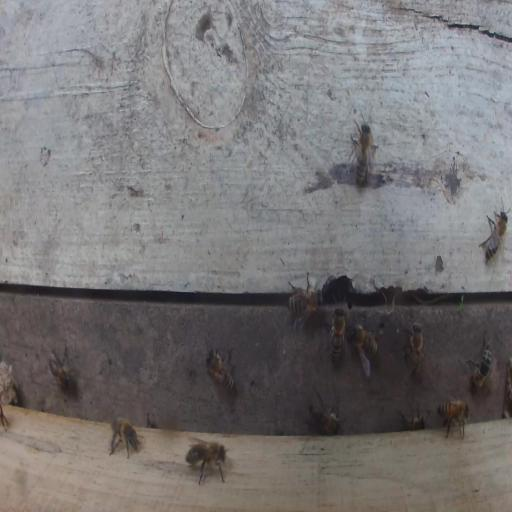nonpollenbee: (184, 435, 227, 487), (349, 313, 379, 379), (463, 329, 492, 396), (308, 386, 342, 438), (437, 394, 471, 441), (109, 416, 145, 460), (351, 118, 373, 190), (204, 347, 236, 396), (400, 321, 427, 378), (482, 208, 509, 262), (288, 285, 322, 322), (47, 345, 73, 389), (328, 305, 346, 367), (397, 404, 431, 430)
